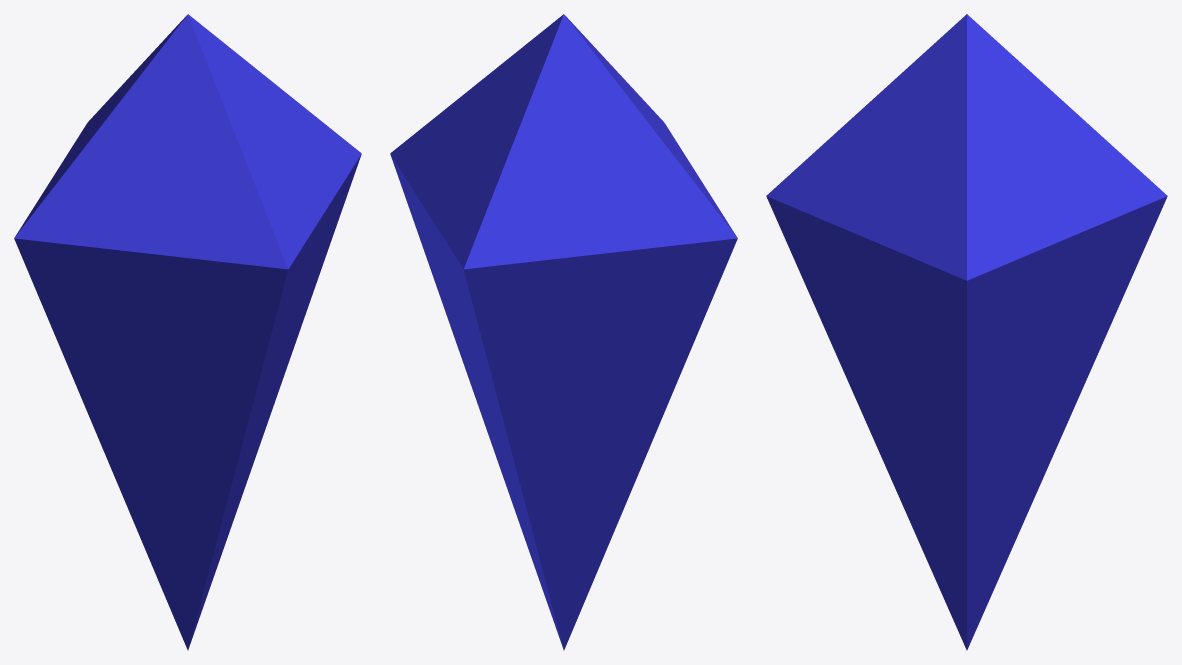
The model's file is mapCursor.fbx.
3 views of the same model, side by side, from view 1: azimuth 30°, elevation 25°; view 2: azimuth 150°, elevation 25°; view 3: azimuth 270°, elevation 25° (orthographic).
Parts seen in each view (by area): view 1: Cone; view 2: Cone; view 3: Cone.
Boxes of the visible parts, bbox=[...] form: Cone: bbox=[14, 14, 361, 650]; Cone: bbox=[390, 14, 737, 650]; Cone: bbox=[766, 14, 1167, 650].
Bounding box in the file's own units: 200 × 350 × 200.
